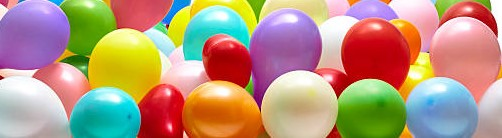Balloon: (261, 70, 338, 138), (429, 17, 502, 88), (1, 1, 70, 70), (85, 28, 162, 88), (406, 76, 479, 138), (1, 75, 71, 138), (251, 9, 322, 71), (184, 82, 262, 138), (341, 20, 409, 83), (340, 78, 407, 138), (70, 86, 141, 138), (138, 83, 183, 138), (203, 39, 252, 83)
